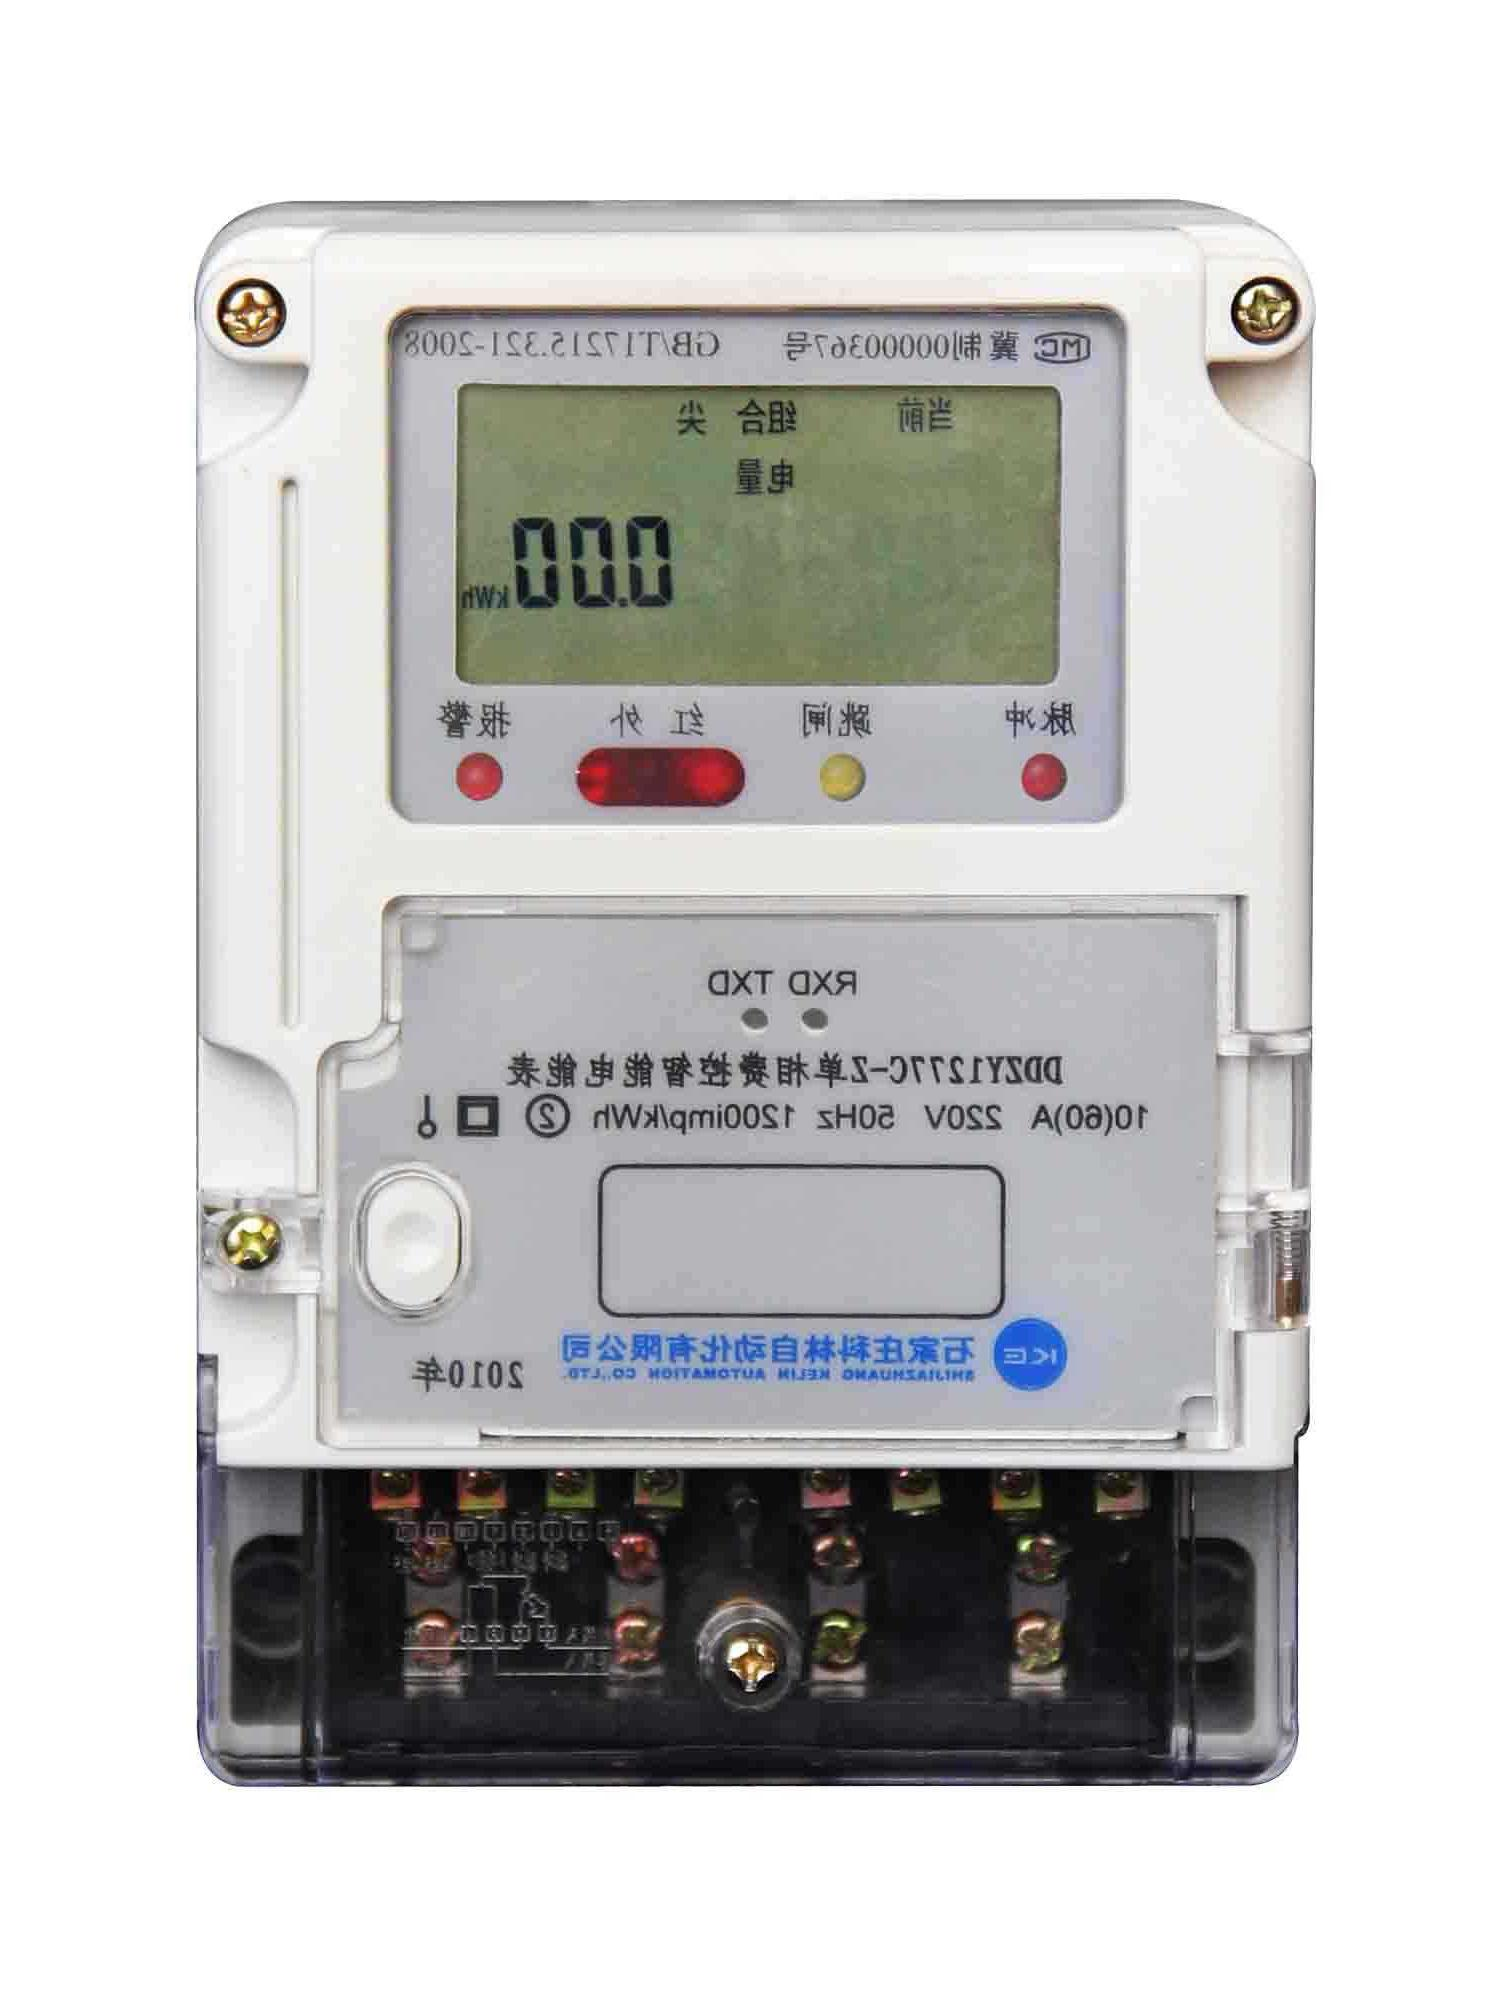digital: (192, 225, 1305, 1468)
